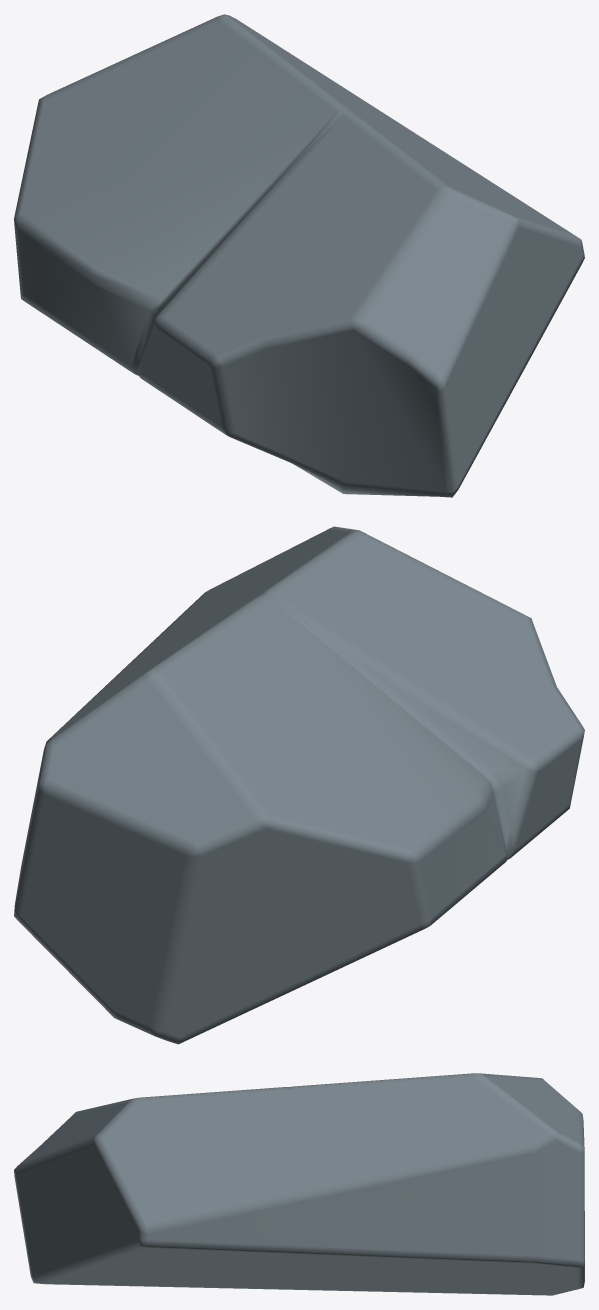
The model's file is SM_Stone04.fbx.
3 views of the same model, one above another, from view 1: azimuth 30°, elevation 25°; view 2: azimuth 150°, elevation 25°; view 3: azimuth 270°, elevation 25° (orthographic). The views are drawn at different scales.
Visible parts, largest first — view 1: Stone04.001; view 2: Stone04.001; view 3: Stone04.001.
Part boxes in pixels (bbox=[...]): Stone04.001: bbox=[14, 14, 584, 497]; Stone04.001: bbox=[14, 526, 584, 1044]; Stone04.001: bbox=[14, 1073, 584, 1295].
Size of the model in its own units: 103 by 75.99 by 159.
